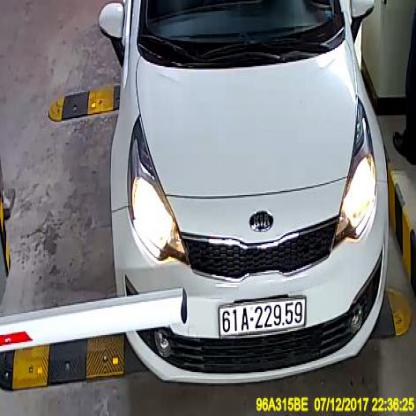biensoxe: (219, 297, 307, 336)
